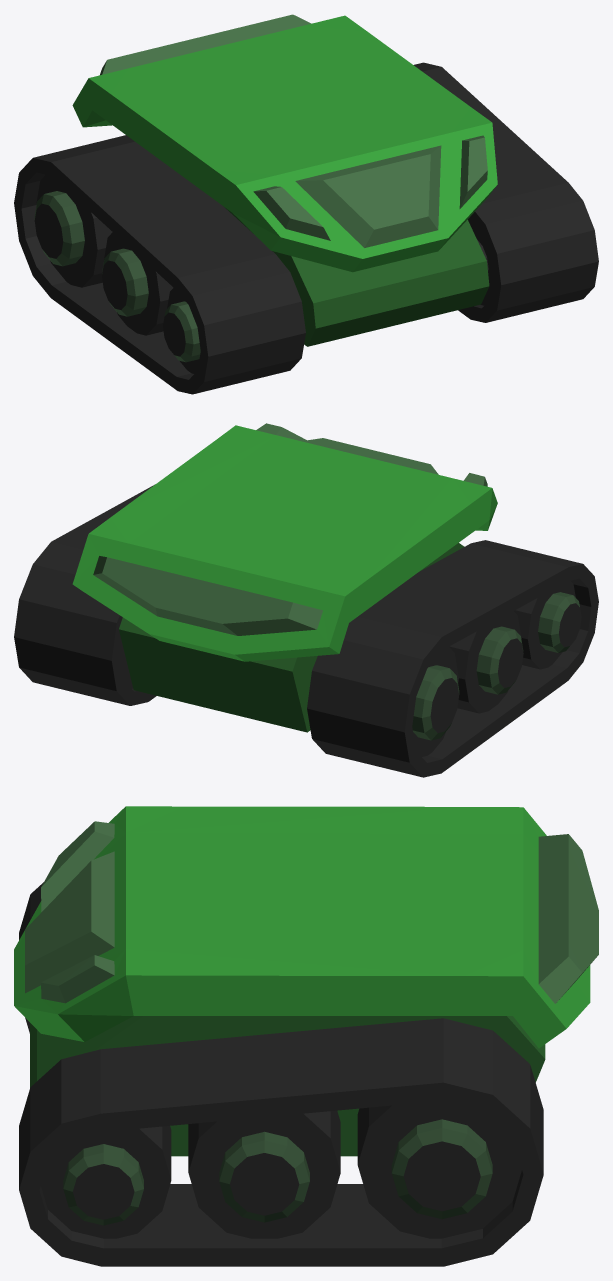
File: small_base.fbx
3 renders of one model, top to bottom at view 1: azimuth 30°, elevation 25°; view 2: azimuth 150°, elevation 25°; view 3: azimuth 270°, elevation 25°, orthographic. The views are drawn at different scales.
Parts seen in each view (by area): view 1: Cube.075, Cylinder.064, Cube.074, Cylinder.047, Cylinder.048, Cylinder.049; view 2: Cube.075, Cylinder.064, Cube.074, Cylinder.048, Cylinder.049, Cylinder.047; view 3: Cube.075, Cylinder.064, Cylinder.047, Cylinder.048, Cylinder.049, Cube.074.
Boxes of the visible parts, box(x1,y1,x2,y2) form: Cube.075: box(72, 14, 497, 272); Cylinder.064: box(14, 62, 598, 394); Cube.074: box(224, 207, 489, 346); Cylinder.047: box(34, 175, 112, 287); Cylinder.048: box(102, 232, 173, 335); Cylinder.049: box(163, 218, 493, 373); Cube.075: box(72, 423, 497, 661); Cylinder.064: box(14, 484, 598, 777); Cube.074: box(119, 543, 464, 732); Cylinder.048: box(449, 611, 523, 713); Cylinder.049: box(514, 581, 581, 669); Cylinder.047: box(119, 640, 459, 756); Cube.075: box(14, 806, 598, 1048); Cylinder.064: box(19, 882, 543, 1266); Cylinder.047: box(357, 1101, 521, 1238); Cylinder.048: box(188, 1110, 340, 1238); Cylinder.049: box(41, 1126, 171, 1238); Cube.074: box(30, 1016, 545, 1156).
Bounding box in the file's own units: 174 × 76.68 × 164.
